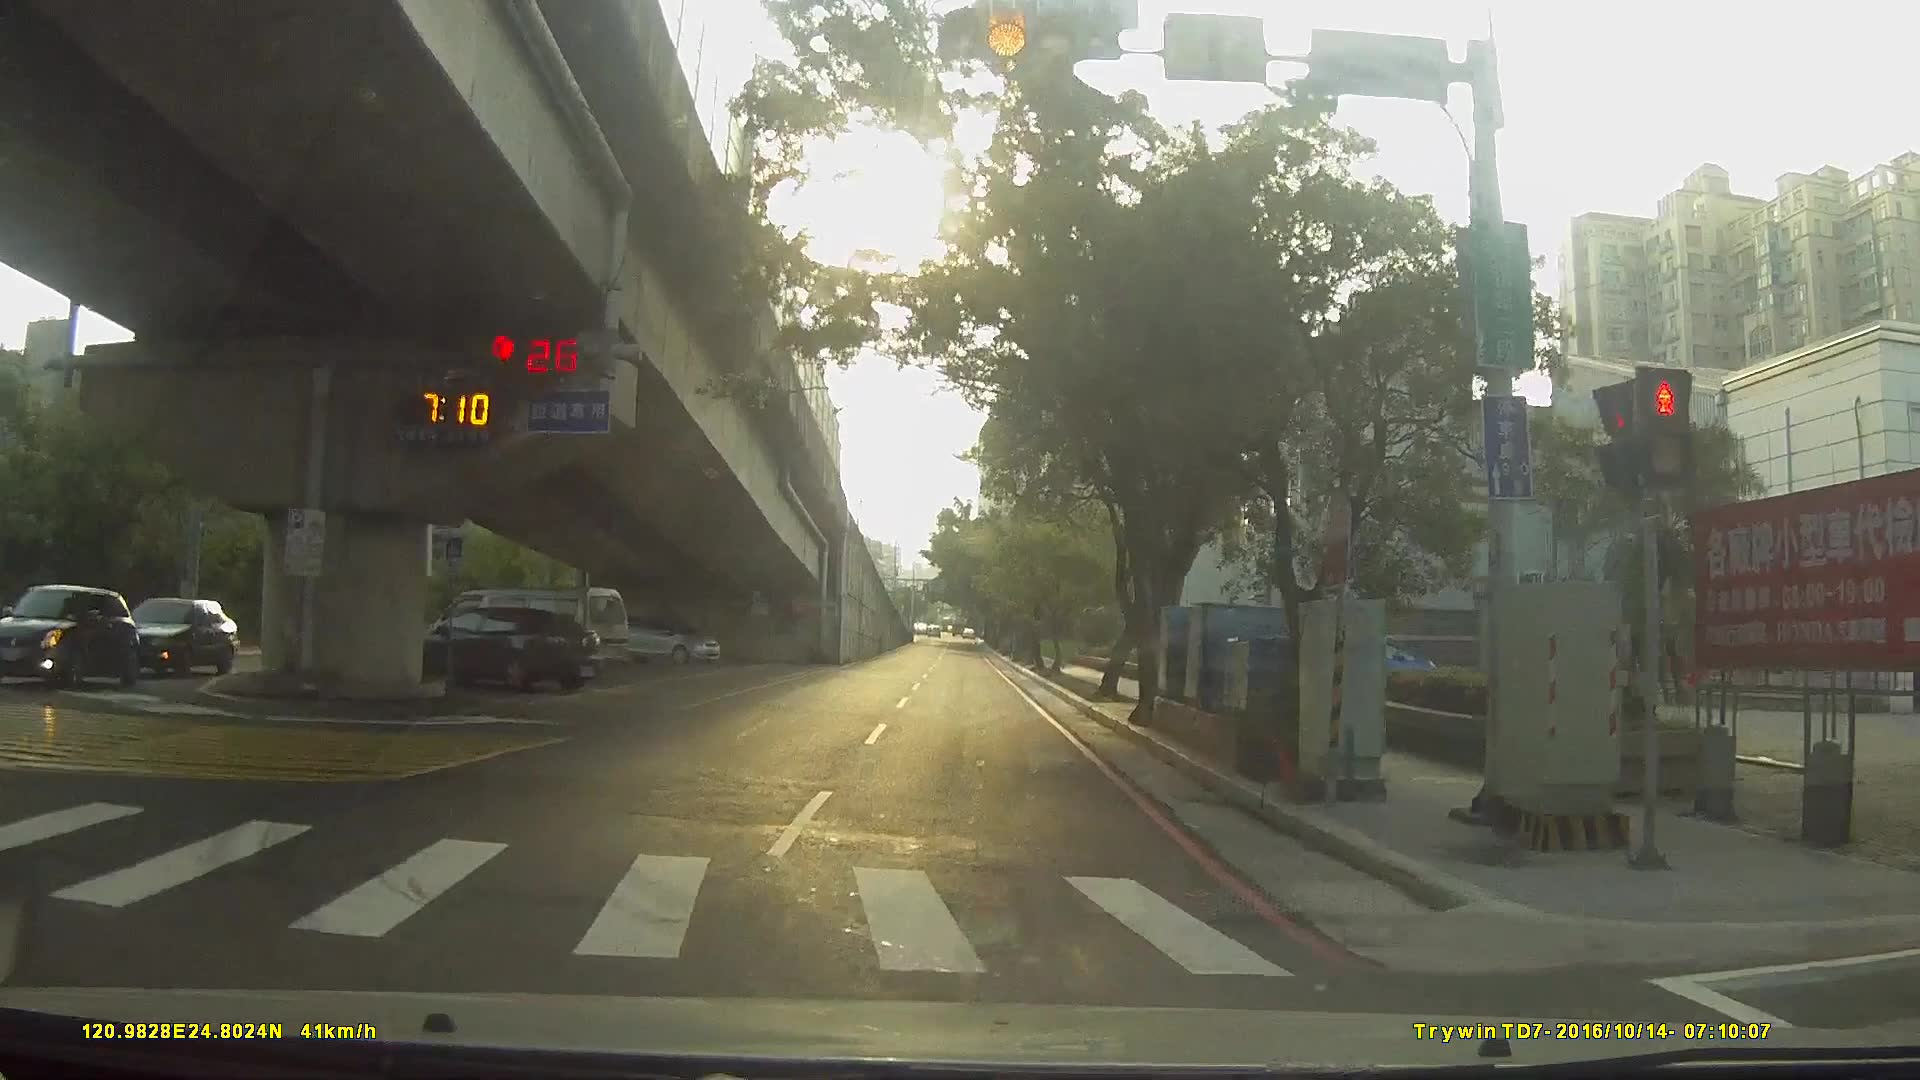vehicle: (423, 585, 625, 682), (388, 607, 593, 698), (1, 578, 148, 690), (105, 593, 248, 678), (597, 613, 720, 667)
